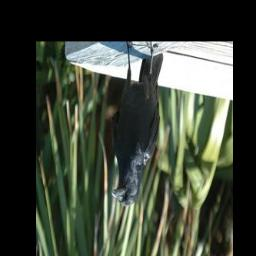Crow: (111, 42, 163, 207)
